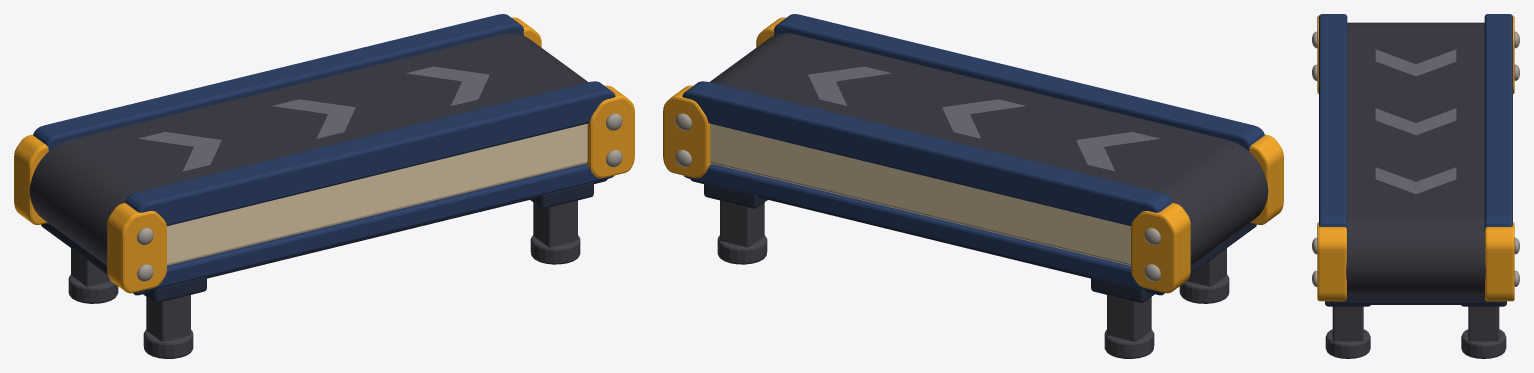
The model's file is conveyor.glb.
The picture shows the model from 3 angles, left to right: view 1: azimuth 30°, elevation 25°; view 2: azimuth 150°, elevation 25°; view 3: azimuth 270°, elevation 25°; orthographic projection. The views are drawn at different scales.
Visible parts, largest first — view 1: Шасси, Полотно с разметкой; view 2: Шасси, Полотно с разметкой; view 3: Полотно с разметкой, Шасси.
Boxes of the visible parts, x1,y1,x2,y2 form: Шасси: (14, 14, 634, 358); Полотно с разметкой: (29, 33, 588, 265); Шасси: (663, 14, 1283, 358); Полотно с разметкой: (709, 33, 1268, 265); Полотно с разметкой: (1346, 22, 1485, 295); Шасси: (1312, 14, 1519, 358).
Bounding box in the file's own units: 1.99 × 0.6175 × 0.776.
